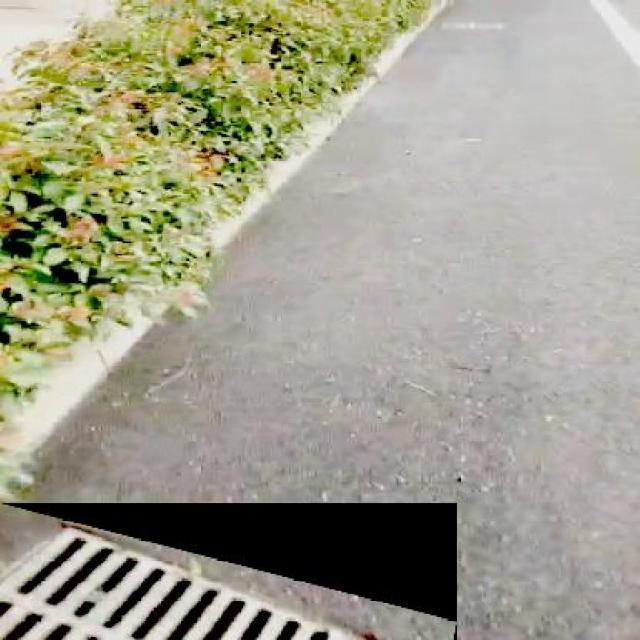Manhole: (0, 503, 457, 640), (438, 13, 524, 41)
